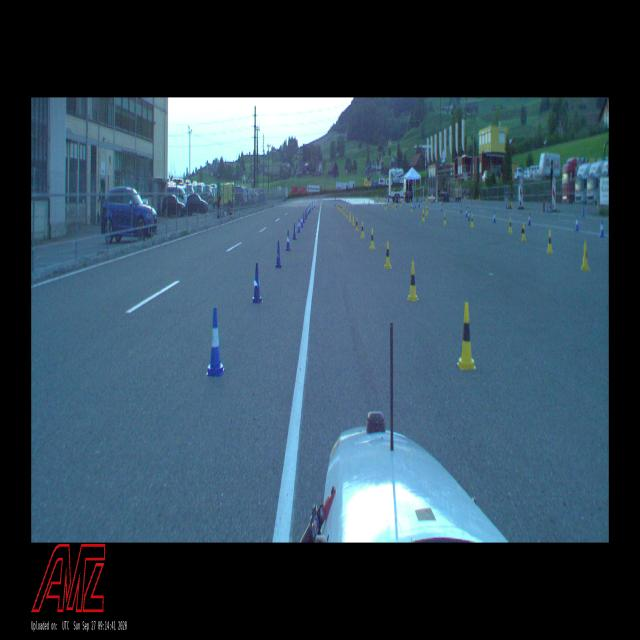blue_cone: (206, 310, 225, 376), (252, 262, 263, 303), (275, 241, 282, 268), (599, 219, 605, 237), (286, 230, 291, 250), (292, 222, 296, 239), (575, 215, 579, 230), (297, 218, 301, 232), (300, 215, 304, 227), (528, 212, 531, 225), (493, 210, 496, 222), (467, 210, 470, 221), (303, 212, 305, 222), (582, 206, 584, 216), (466, 207, 468, 217), (305, 210, 307, 219), (306, 208, 308, 216), (308, 206, 309, 214)
yellow_cone: (457, 302, 476, 369), (407, 260, 419, 301), (384, 240, 392, 268), (581, 242, 589, 270), (546, 230, 552, 252), (370, 228, 375, 248), (521, 224, 526, 242), (360, 221, 364, 237), (508, 217, 512, 233), (355, 217, 359, 231), (471, 214, 474, 227), (422, 209, 425, 221), (444, 213, 446, 225), (352, 214, 354, 226), (346, 209, 348, 218), (349, 212, 351, 221), (343, 207, 345, 215), (411, 204, 412, 211)
